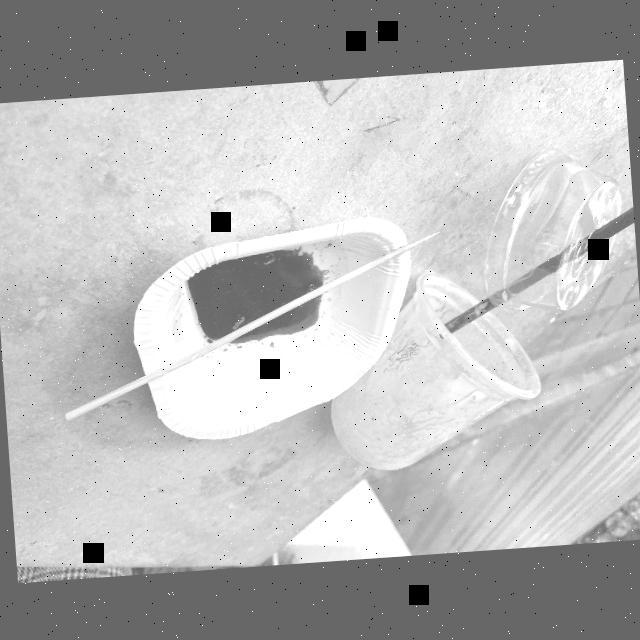cardboard_bowl: (131, 211, 425, 464)
plastic_cup: (308, 268, 562, 500)
plastic_cup_lid: (479, 138, 640, 332)
stick: (50, 210, 454, 430)
straw: (423, 192, 634, 348)
